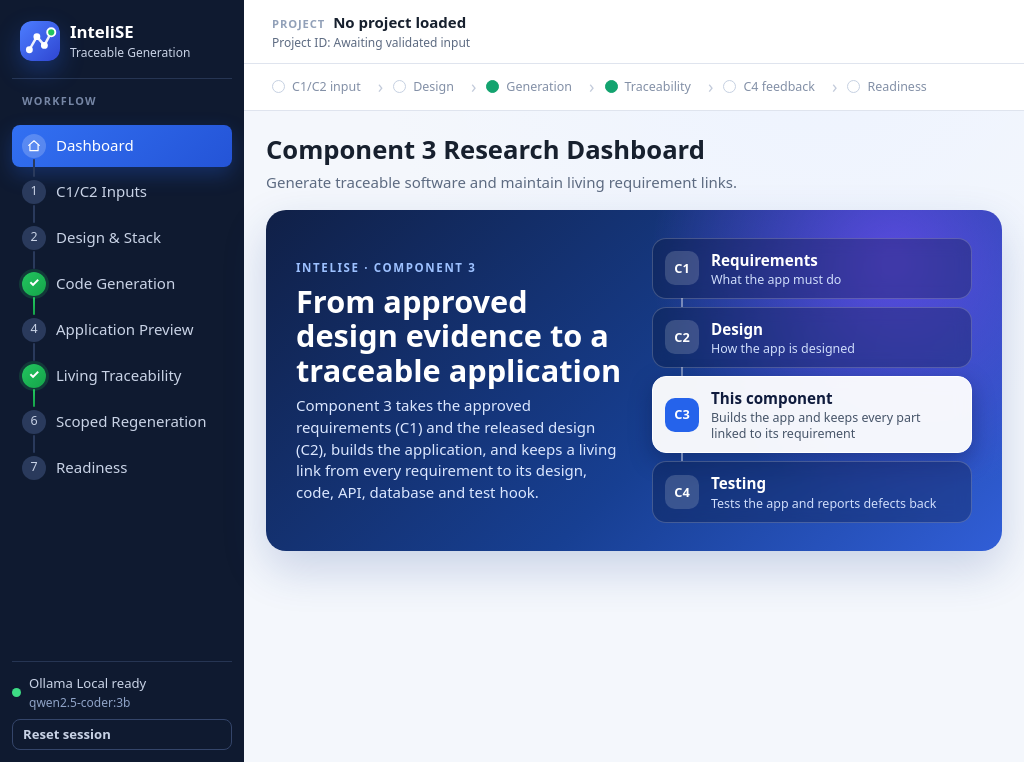
Scenario: Living traceability chain visual › highlights the impact set returned by the impact endpoint
Click the button "✓ Living Traceability": click(122, 376) [12, 354, 232, 396]
(page scrolled)
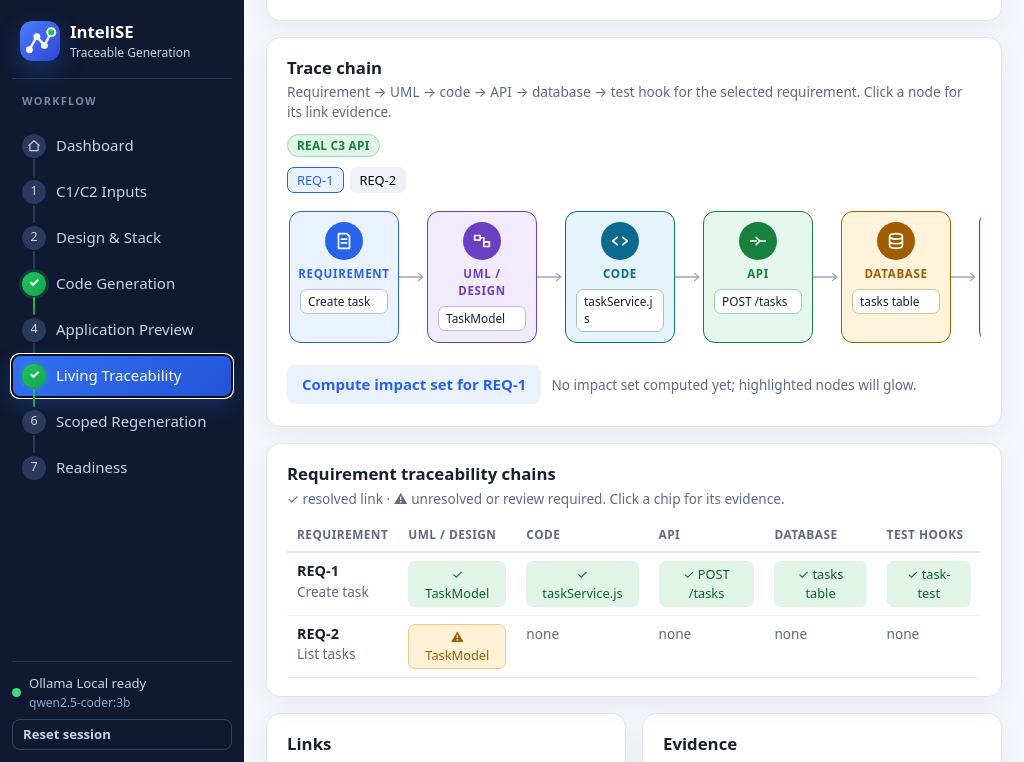
Click the button "Compute impact set for REQ-1": click(414, 384) [287, 364, 541, 404]
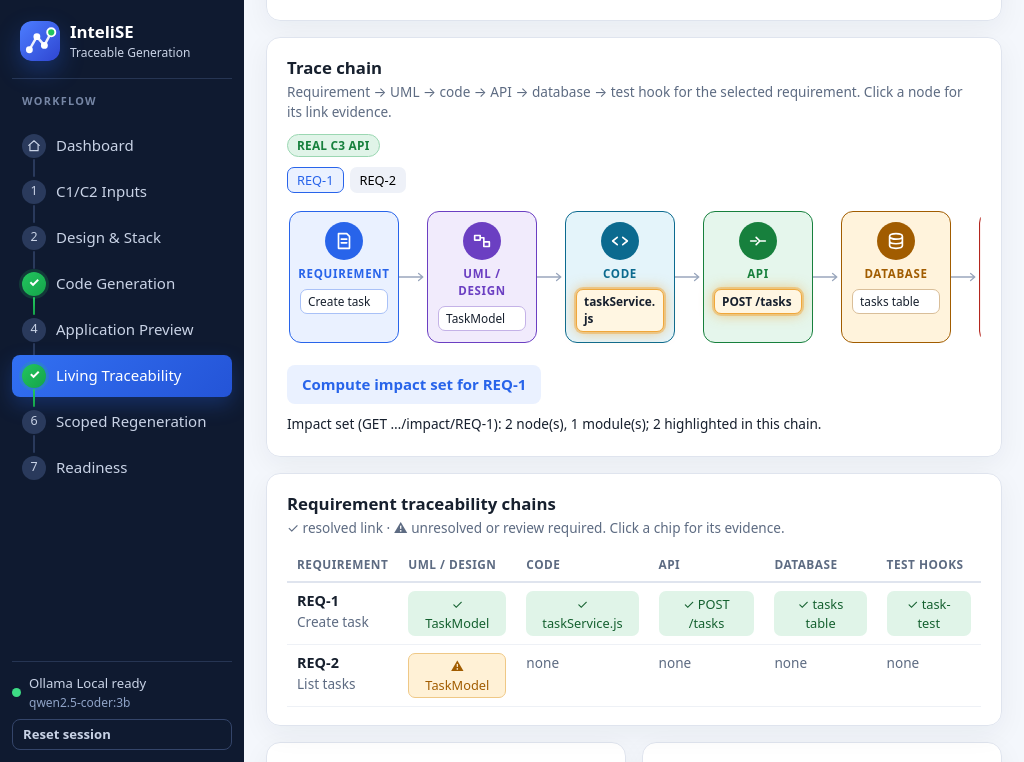
Now the text with test id "impact-summary" shows "2 node(s), 1 module(s); 2 highlighted", box [287, 414, 822, 433]
